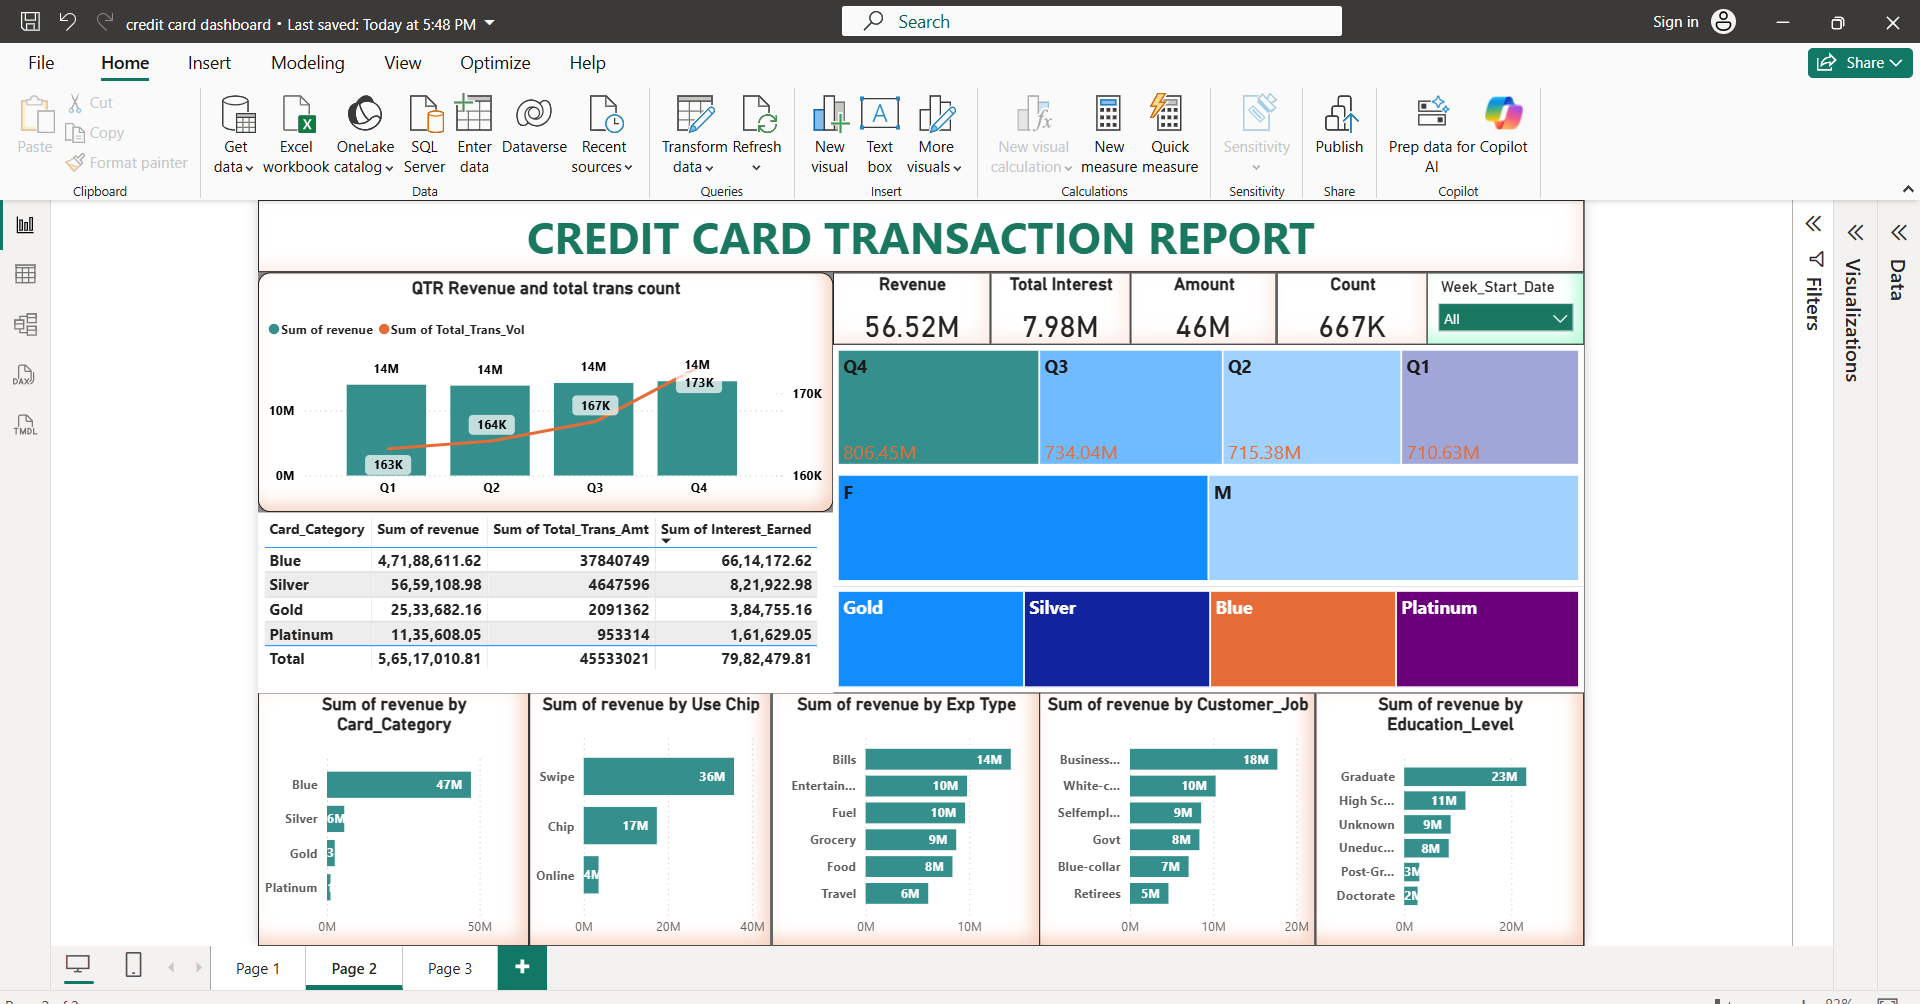

The page's visual inventory and layout, read from the dashboard file:
{"tool":"powerbi","page":{"name":"Page 2","canvas":[1280,720],"ordinal":1},"visuals":[{"type":"textbox","box":[0,0,1280.3,69.9],"z":0},{"type":"barChart","fields":{"Y":["Sum(creditcard_details.revenue)"],"Category":["creditcard_details.Exp Type"]},"box":[495.3,475,259.1,245.1],"z":1000},{"type":"barChart","fields":{"Y":["Sum(creditcard_details.revenue)"],"Category":["customer_details.Customer_Job"]},"box":[754.4,475,266.7,245.1],"z":2000},{"type":"barChart","fields":{"Y":["Sum(creditcard_details.revenue)"],"Category":["customer_details.Education_Level"]},"box":[1021.2,475,259.1,245.1],"z":3000},{"type":"barChart","fields":{"Y":["Sum(creditcard_details.revenue)"],"Category":["creditcard_details.Card_Category"]},"box":[0,475,261.6,245.1],"z":4000},{"type":"barChart","fields":{"Y":["Sum(creditcard_details.revenue)"],"Category":["creditcard_details.Use Chip"]},"box":[261.6,475,233.7,245.1],"z":5000},{"type":"tableEx","fields":{"Values":["creditcard_details.Card_Category","Sum(creditcard_details.revenue)","Sum(creditcard_details.Total_Trans_Amt)","Sum(creditcard_details.Interest_Earned)"]},"box":[0,301,555,174],"z":6000},{"type":"card","title":"Revenue","fields":{"Values":["Sum(creditcard_details.revenue)"]},"box":[555,70,152,70],"z":7000},{"type":"card","title":"Total Interest","fields":{"Values":["Sum(creditcard_details.Interest_Earned)"]},"box":[707,70,135.1,70],"z":8000},{"type":"card","title":"Amount","fields":{"Values":["Sum(creditcard_details.Total_Trans_Amt)"]},"box":[842.1,70,141.2,70],"z":9000},{"type":"card","title":"Count","fields":{"Values":["Sum(creditcard_details.Total_Trans_Vol)"]},"box":[983.2,70,146,70],"z":10000},{"type":"lineStackedColumnComboChart","title":"QTR Revenue and total trans count","fields":{"Y":["Sum(creditcard_details.revenue)"],"Category":["creditcard_details.Qtr"],"Y2":["Sum(creditcard_details.Total_Trans_Vol)"]},"box":[0,69.9,555,231.2],"z":11000},{"type":"slicer","fields":{"Values":["creditcard_details.Week_Start_Date"]},"box":[1128,70,152,70],"z":12000},{"type":"treemap","fields":{"Values":["Avg(creditcard_details.ï»¿Client_Num)"],"Group":["creditcard_details.Qtr"]},"box":[555,139.9,725.1,120.6],"z":13000},{"type":"treemap","fields":{"Group":["customer_details.Gender"],"Values":["Avg(customer_details.ï»¿Client_Num)"]},"box":[555,260.6,725.1,112.2],"z":14000},{"type":"treemap","fields":{"Group":["creditcard_details.Card_Category"],"Values":["Avg(creditcard_details.ï»¿Client_Num)"]},"box":[555,372.8,725.1,102.5],"z":15000}]}

Visuals, with their boxes on the page's 1280x720 design canvas (x1, y1, x2, y2). These are canvas units, not pixel positions in the 1920x1004 screenshot, which may show the page scaled, cropped or inside an application window:
textbox: 0 0 1280 70
barChart - Sum(creditcard_details.revenue) x creditcard_details.Exp Type: 495 475 754 720
barChart - Sum(creditcard_details.revenue) x customer_details.Customer_Job: 754 475 1021 720
barChart - Sum(creditcard_details.revenue) x customer_details.Education_Level: 1021 475 1280 720
barChart - Sum(creditcard_details.revenue) x creditcard_details.Card_Category: 0 475 262 720
barChart - Sum(creditcard_details.revenue) x creditcard_details.Use Chip: 262 475 495 720
tableEx - creditcard_details.Card_Category x Sum(creditcard_details.revenue): 0 301 555 475
"Revenue" card: 555 70 707 140
"Total Interest" card: 707 70 842 140
"Amount" card: 842 70 983 140
"Count" card: 983 70 1129 140
"QTR Revenue and total trans count" lineStackedColumnComboChart: 0 70 555 301
slicer - creditcard_details.Week_Start_Date: 1128 70 1280 140
treemap - Avg(creditcard_details.ï»¿Client_Num) x creditcard_details.Qtr: 555 140 1280 260
treemap - customer_details.Gender x Avg(customer_details.ï»¿Client_Num): 555 261 1280 373
treemap - creditcard_details.Card_Category x Avg(creditcard_details.ï»¿Client_Num): 555 373 1280 475
